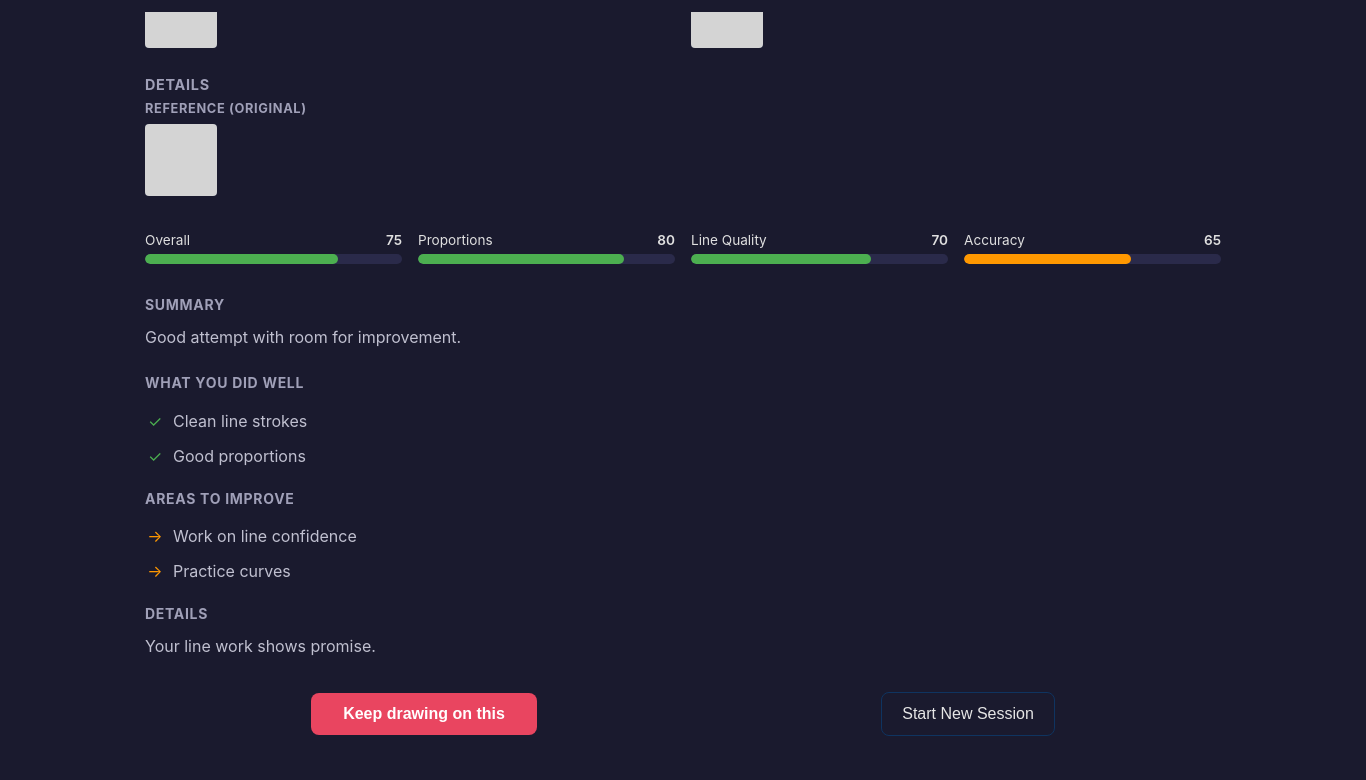
Test: FeedbackPage › says so when the drawing cannot be carried on with
(page scrolled)
Click the button with test id "keep-drawing-btn".
click(424, 714)  # box [311,692,537,734]
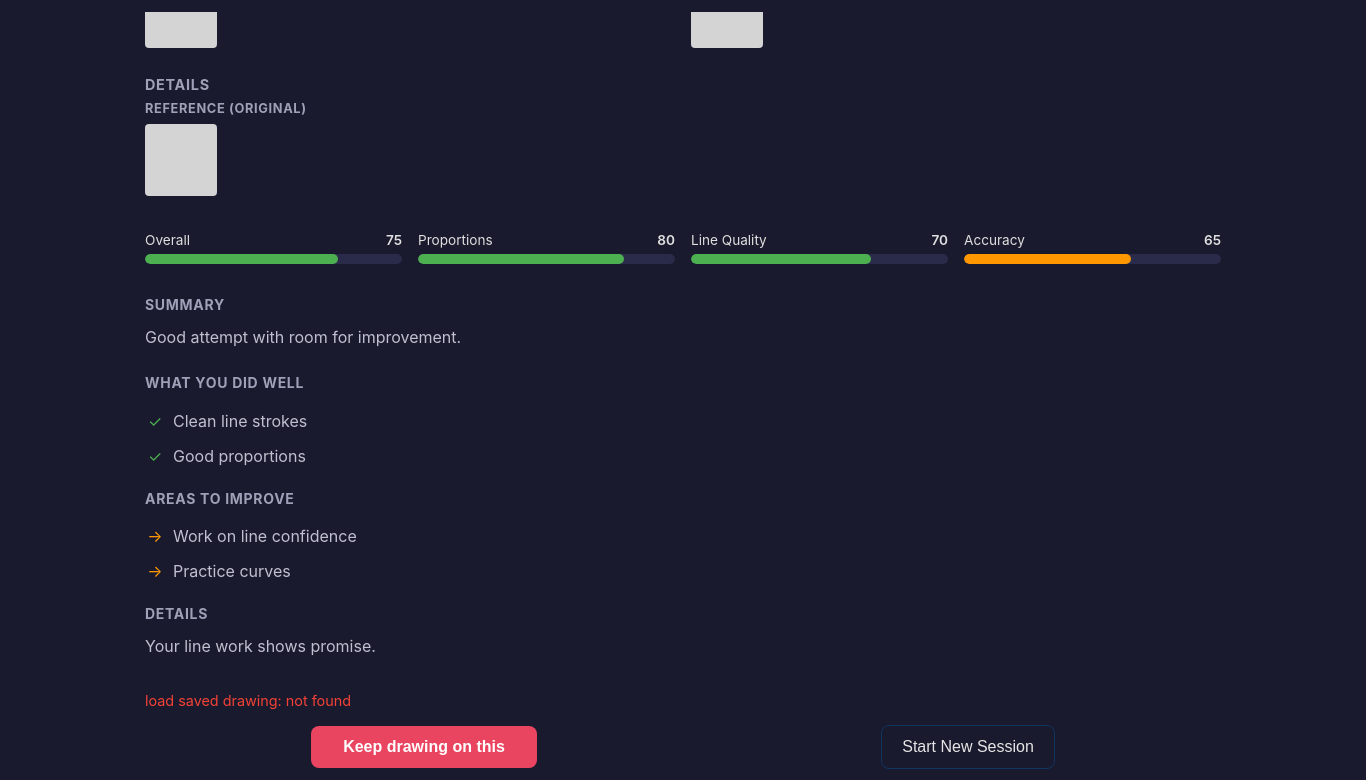
Expected: the button with test id "new-session-btn" is shown, [881,724,1055,768]
Result: the text with test id "feedback-resume-error" reads "load saved drawing: not found" at [145,692,351,708]
